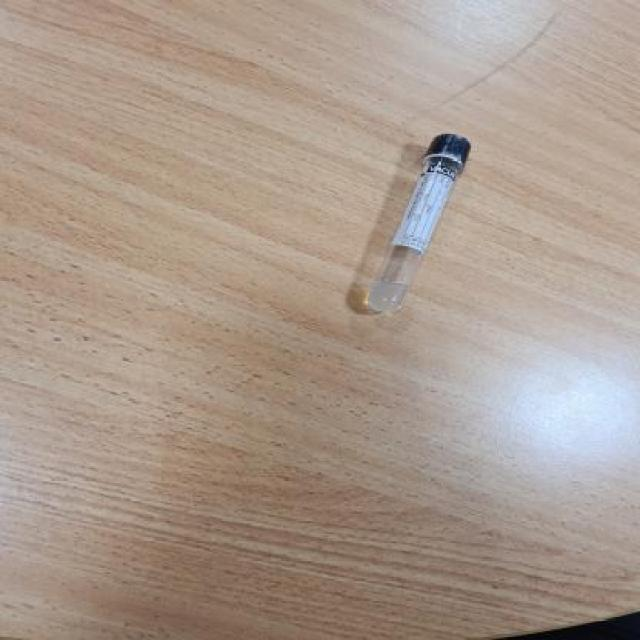Experimental-tube: (364, 134, 476, 308)
